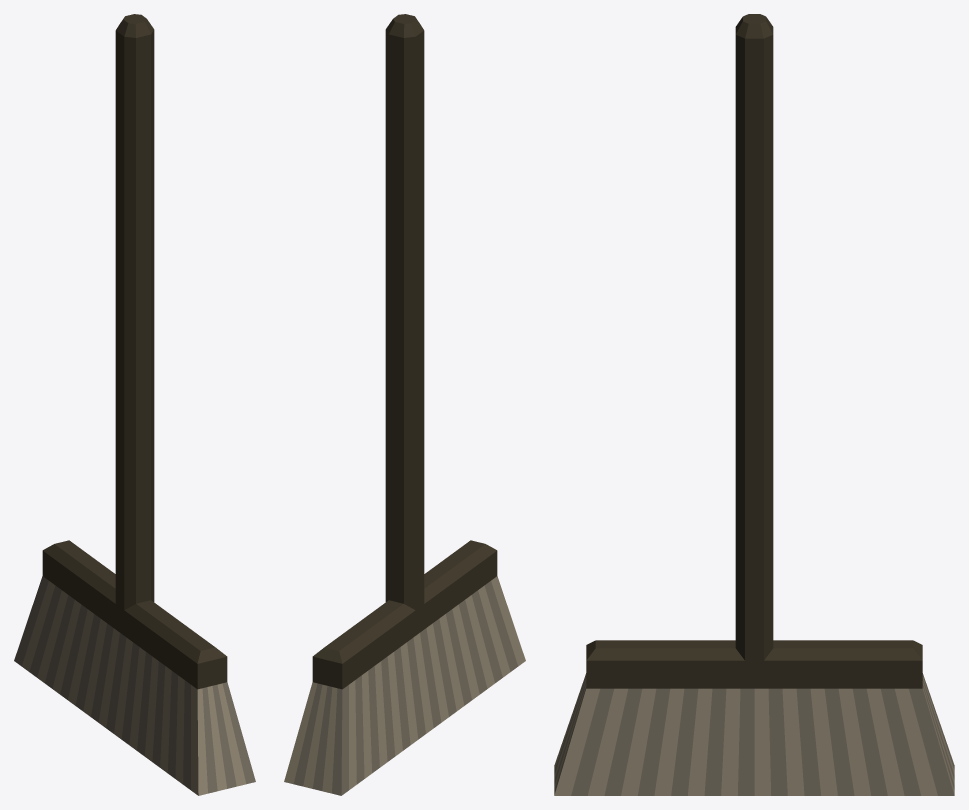
The model's file is Broom_Reza.fbx.
3 renders of one model, left to right at view 1: azimuth 30°, elevation 25°; view 2: azimuth 150°, elevation 25°; view 3: azimuth 270°, elevation 25°, orthographic. The views are drawn at different scales.
Parts seen in each view (by area): view 1: broom2; view 2: broom2; view 3: broom2.
Part boxes in pixels (x1=…): broom2: x1=14, y1=14, x2=255, y2=795; broom2: x1=284, y1=14, x2=525, y2=795; broom2: x1=554, y1=14, x2=954, y2=795.
Size of the model in its own units: 0.651 by 7.6 by 3.62.
